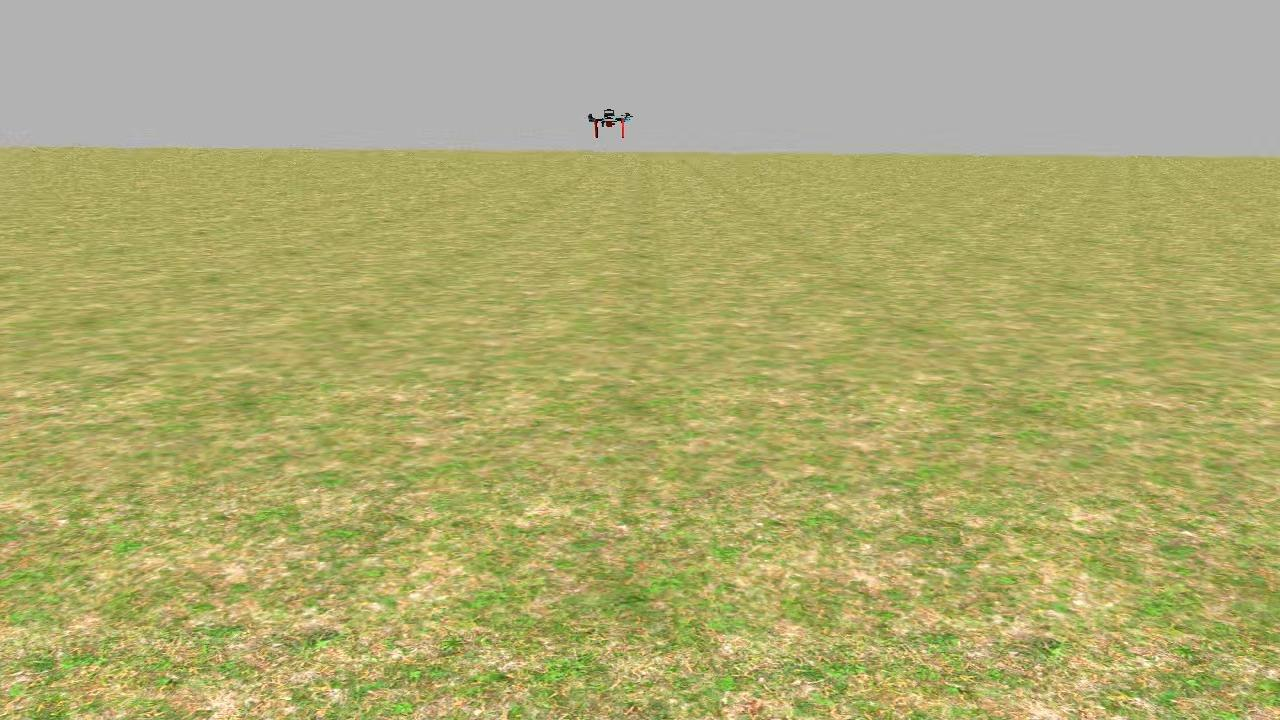UAV: (576, 98, 640, 148)
